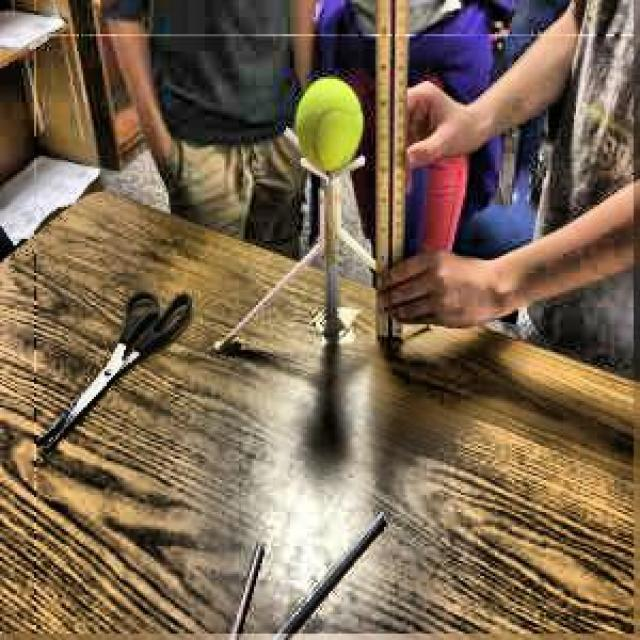tennis-ball: (297, 79, 365, 171)
